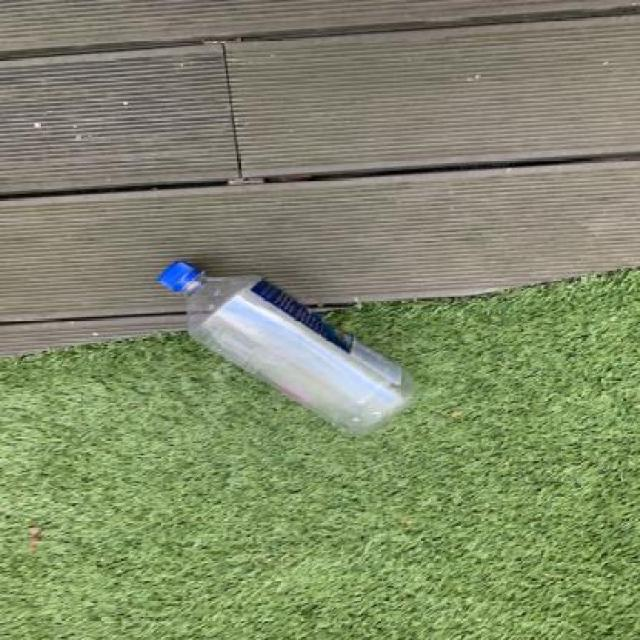trash: (154, 256, 428, 438)
